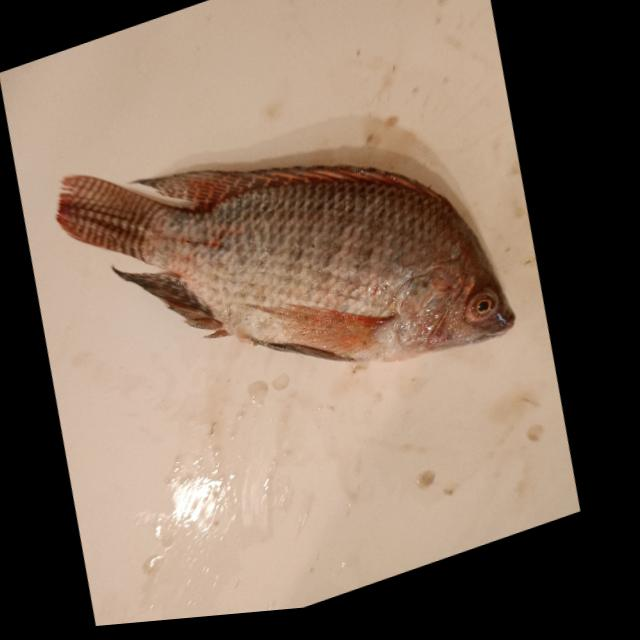Tilapia: (18, 24, 549, 483)
